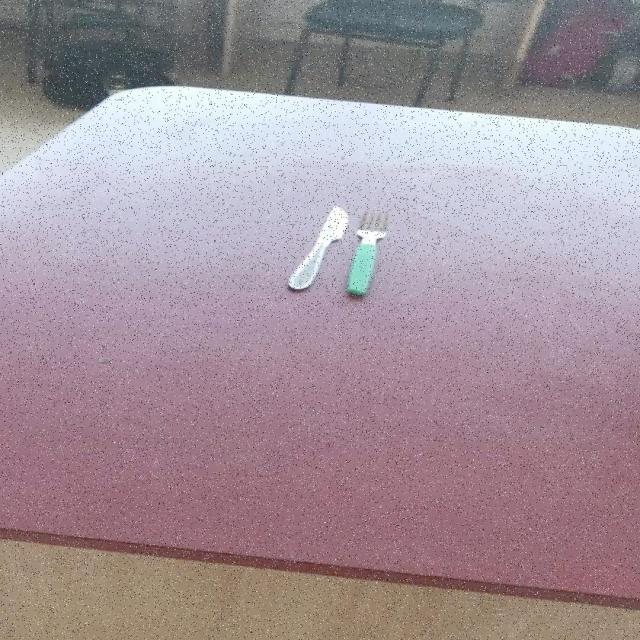Fork: (348, 210, 392, 296)
Knife: (288, 204, 392, 297), (288, 204, 351, 290)
